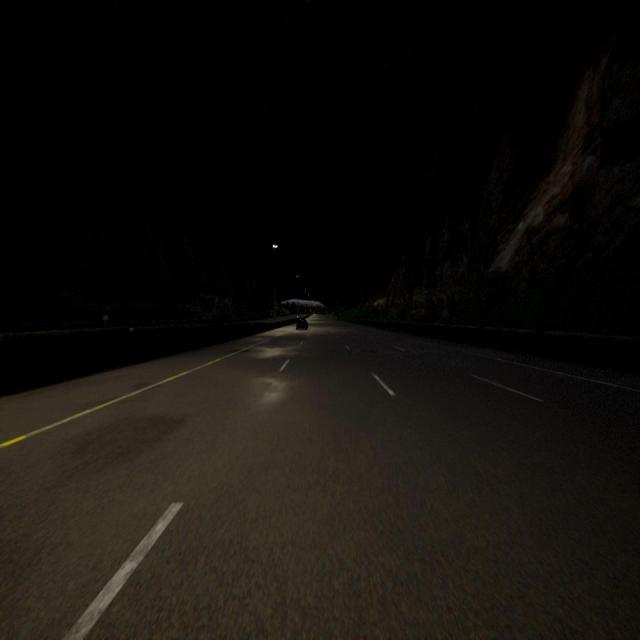Traffic_Signs: (104, 314, 108, 322)
Vehicle: (296, 318, 308, 330)
